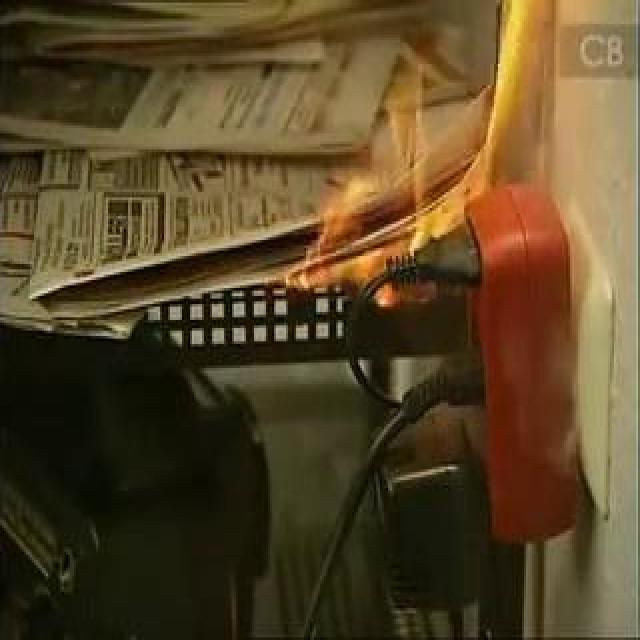Fire: (199, 76, 537, 433)
